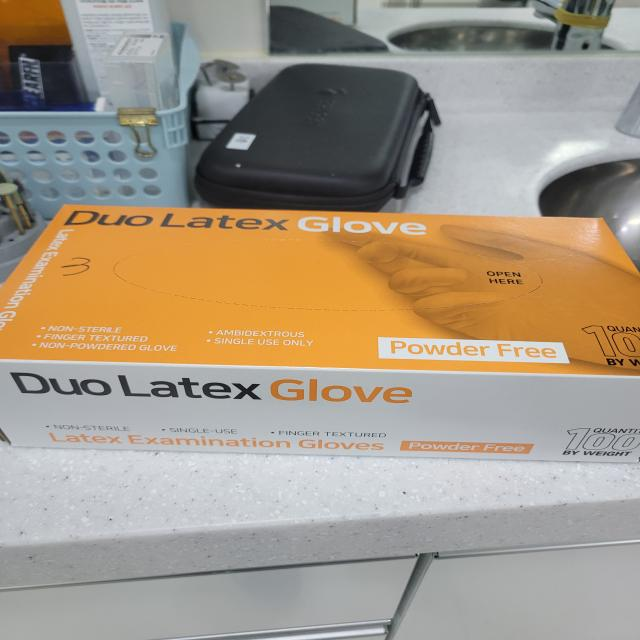glove: (0, 196, 640, 514)
